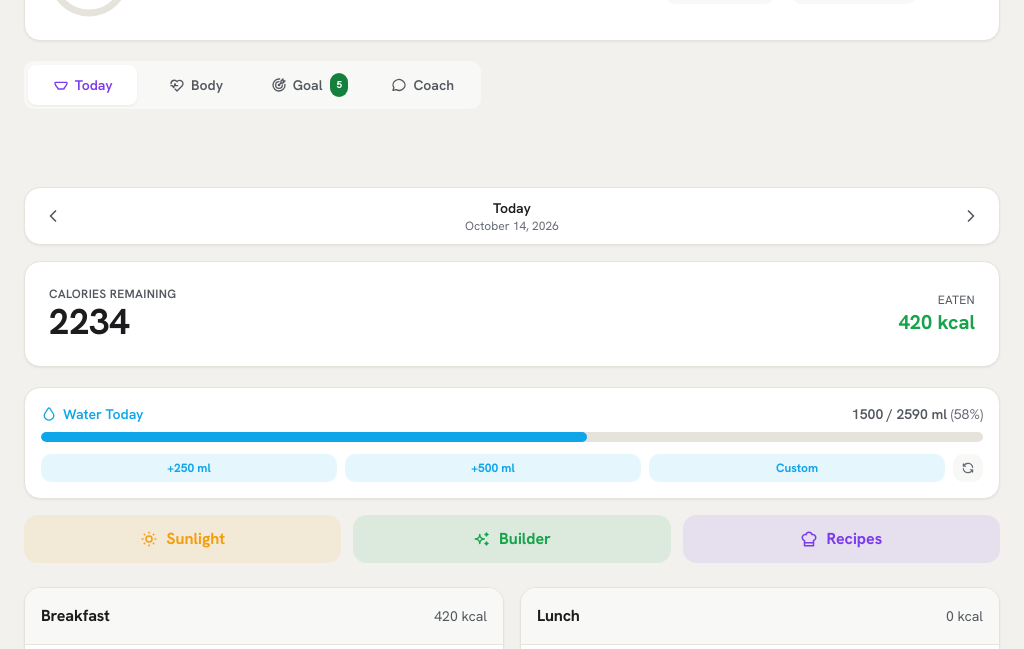
Body › keeps the Micronutrient Snapshot, which moved here from Trends
This screenshot has width=1024, height=649.
Click the tab "Body". click: (196, 85)
box: [141,65,251,105]
(page scrolled)
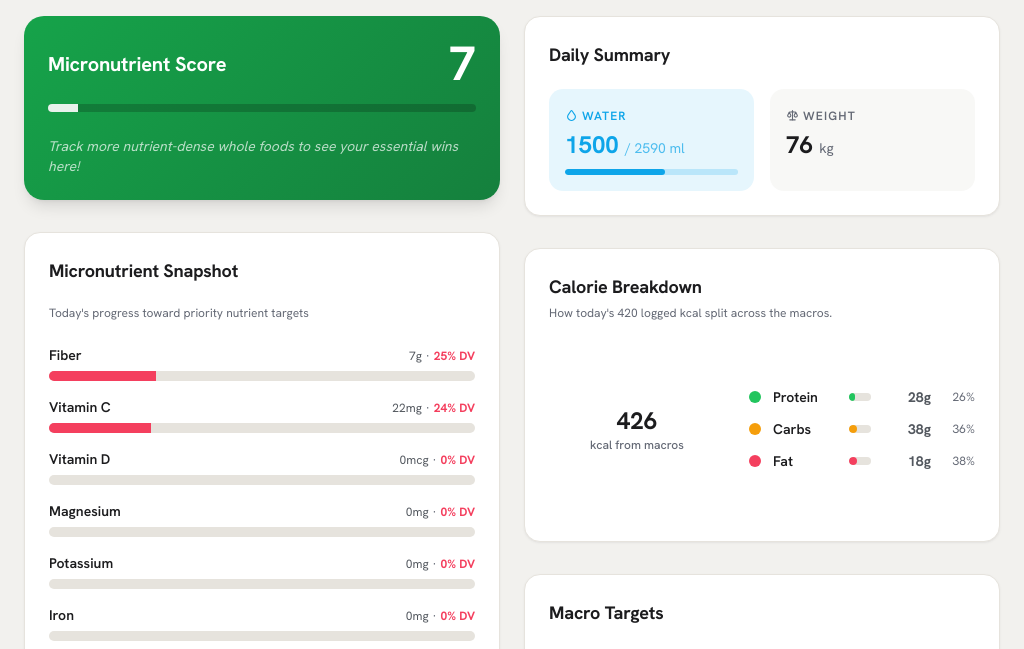
Expected: the heading "Micronutrient Snapshot" is shown, [49,257,238,285]
